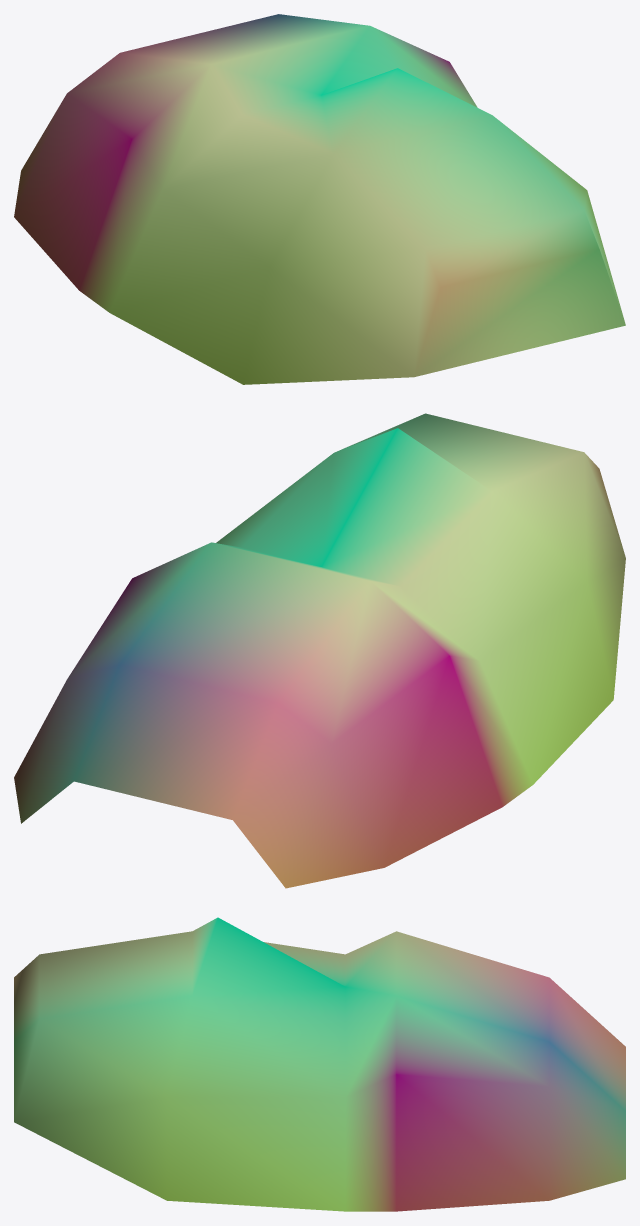
3 views of the same model, one above another, from view 1: azimuth 30°, elevation 25°; view 2: azimuth 150°, elevation 25°; view 3: azimuth 270°, elevation 25° (orthographic). The views are drawn at different scales.
Visible parts, largest first — view 1: part; view 2: part; view 3: part.
Part boxes in pixels (left/top/right/bottom): part: left=14, top=14, right=625, bottom=384; part: left=14, top=413, right=625, bottom=888; part: left=14, top=917, right=625, bottom=1211.
Bounding box in the file's own units: 16 × 9 × 24.
